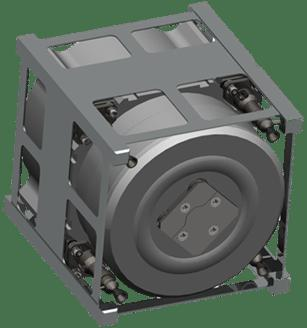thruster: (262, 122, 280, 143), (109, 285, 128, 304), (253, 257, 269, 277), (125, 154, 138, 169), (81, 136, 91, 146), (109, 108, 118, 119), (229, 87, 239, 96)
